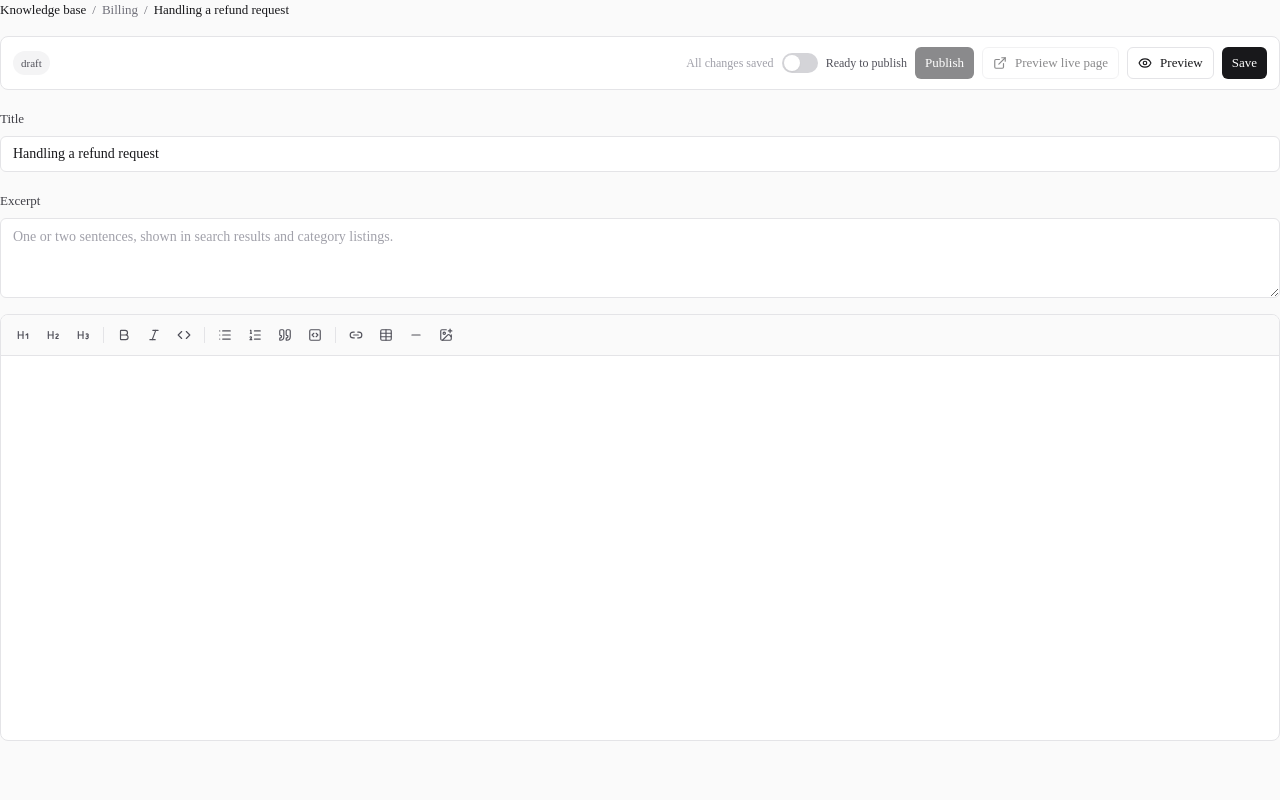
Test: ArticleEditor › leaving with unsaved changes › stops the back link and asks first when there are unsaved changes
The width and height of the screenshot is (1280, 800).
Replace the text in the field labelled "Title" with "Handling a refund request, revised" at (640, 154), box left=0, top=136, right=1279, bottom=172
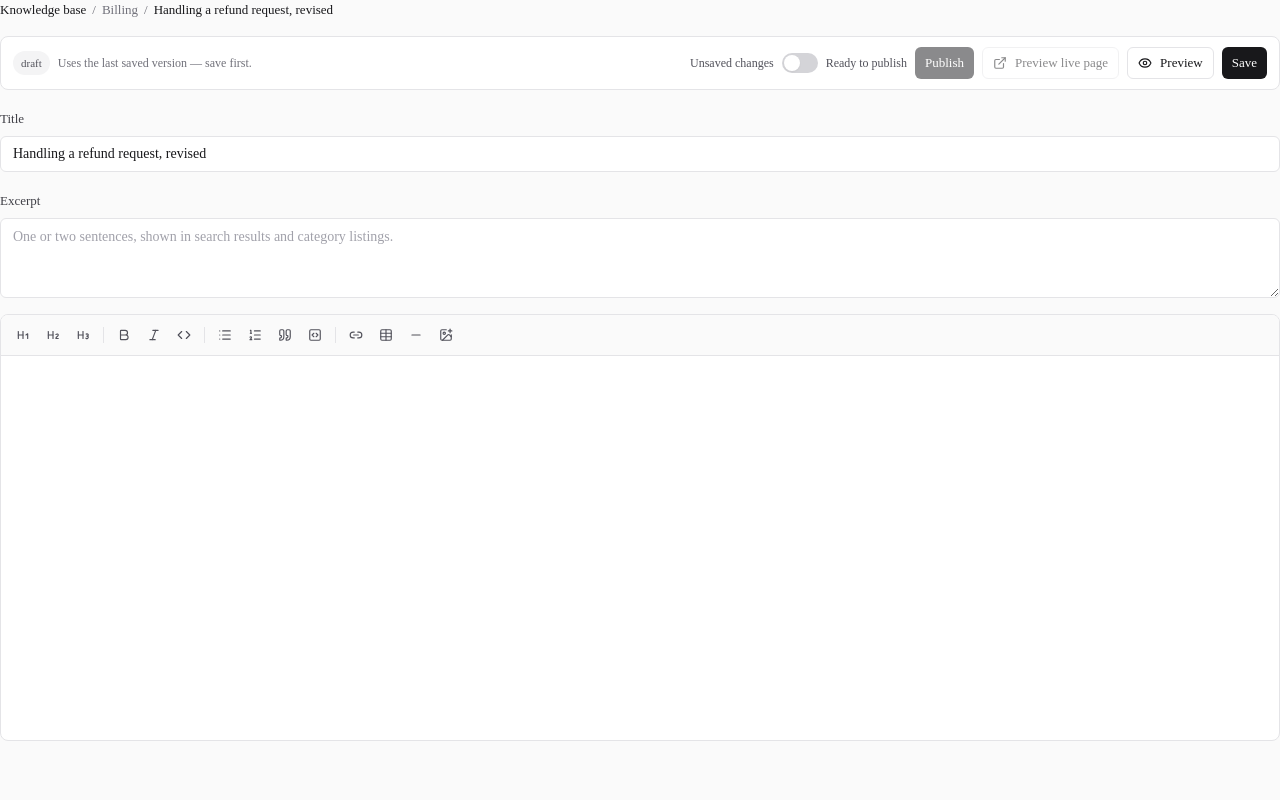
Check: the text "Unsaved changes" is shown, box left=690, top=54, right=774, bottom=72
Click the link "Knowledge base" at (43, 10), box left=0, top=0, right=86, bottom=20
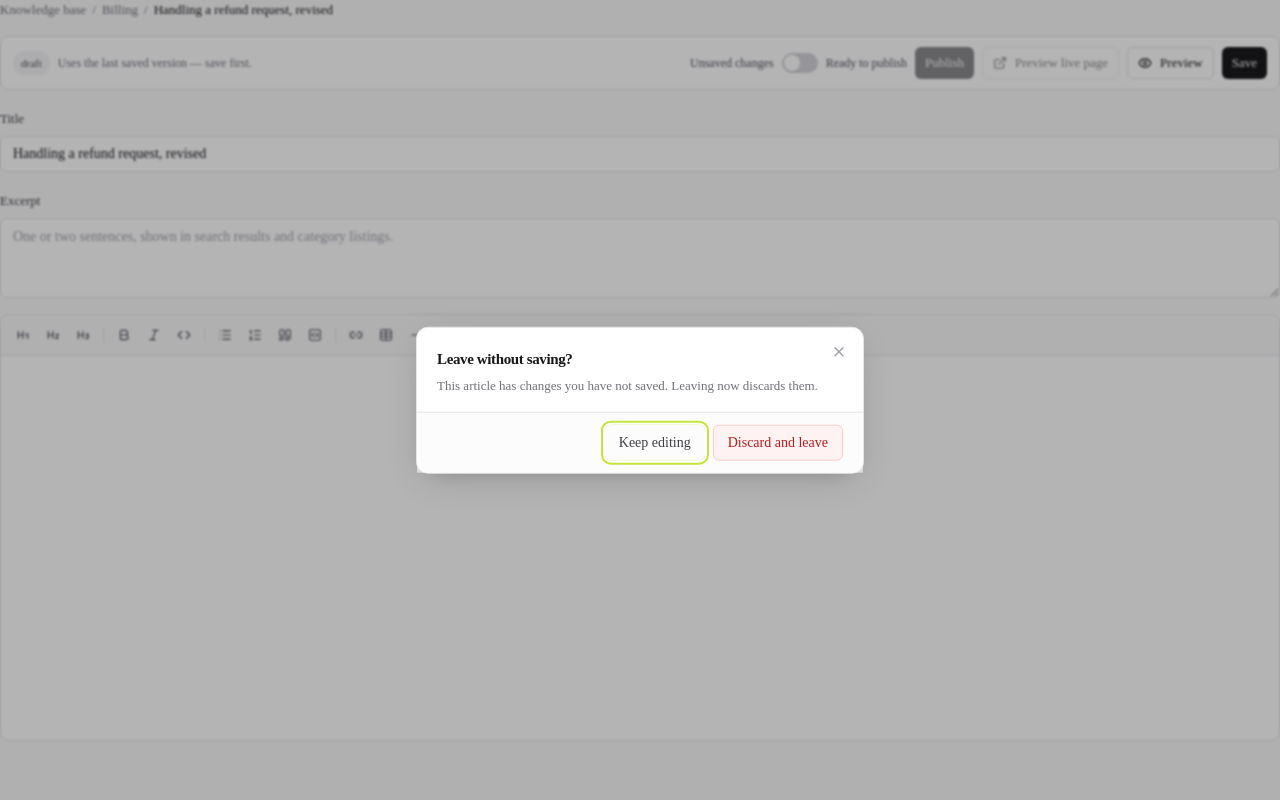
Check: the heading "Leave without saving?" is shown, box left=437, top=351, right=572, bottom=367
